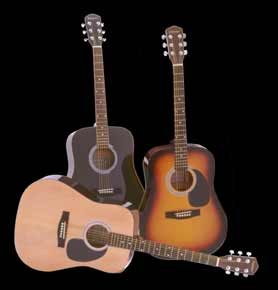guitar: (12, 173, 261, 278), (137, 23, 229, 260), (62, 13, 144, 205)
